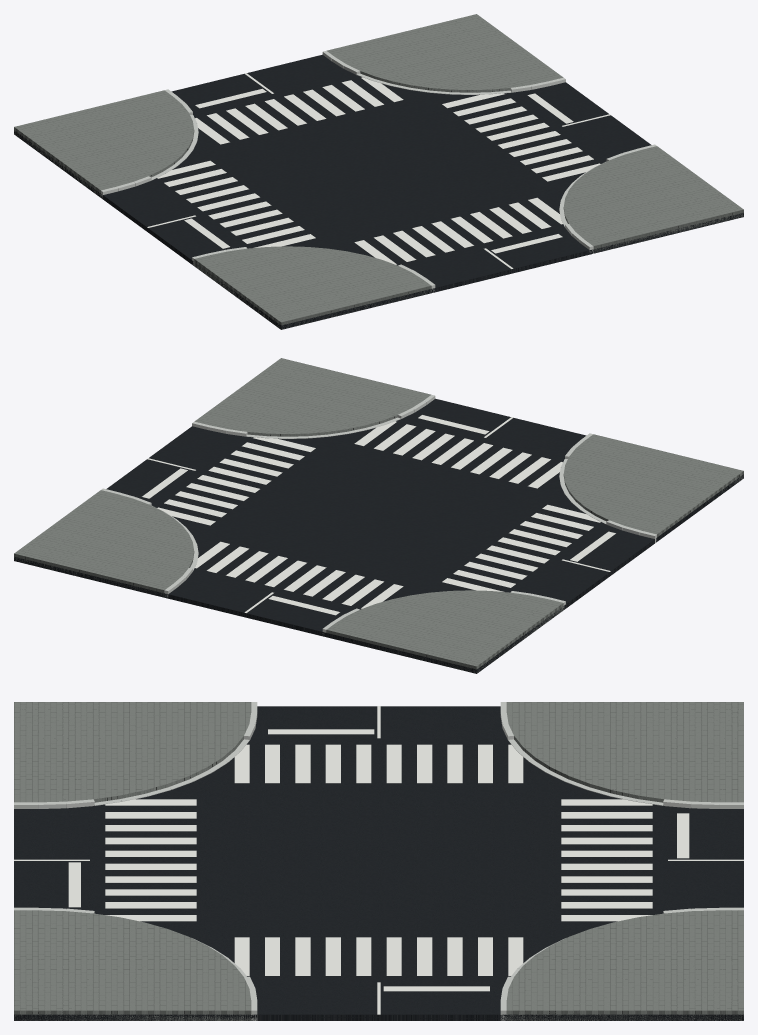
Rendered from RK_Road_Cross_24m.fbx.
3 views of the same model, one above another, from view 1: azimuth 30°, elevation 25°; view 2: azimuth 150°, elevation 25°; view 3: azimuth 270°, elevation 25° (orthographic). The views are drawn at different scales.
Parts seen in each view (by area): view 1: COL_Asphalt.003, COL_Paving.002, Markings_White.003, COL_Concrete.002; view 2: COL_Asphalt.003, COL_Paving.002, Markings_White.003, COL_Concrete.002; view 3: COL_Asphalt.003, COL_Paving.002, Markings_White.003, COL_Concrete.002.
Boxes of the visible parts, box(x1,y1,x2,y2) form: COL_Asphalt.003: box(14, 54, 743, 329); COL_Paving.002: box(14, 14, 743, 329); Markings_White.003: box(147, 73, 610, 268); COL_Concrete.002: box(101, 50, 656, 292); COL_Asphalt.003: box(14, 398, 743, 673); COL_Paving.002: box(14, 358, 743, 673); Markings_White.003: box(142, 415, 615, 615); COL_Concrete.002: box(101, 394, 656, 633); COL_Asphalt.003: box(14, 706, 743, 1020); COL_Paving.002: box(14, 702, 743, 1020); Markings_White.003: box(14, 706, 743, 1014); COL_Concrete.002: box(14, 702, 743, 1020).
Size of the model in its own units: 2400 by 37 by 2400.
4 materials, 2 textured.
